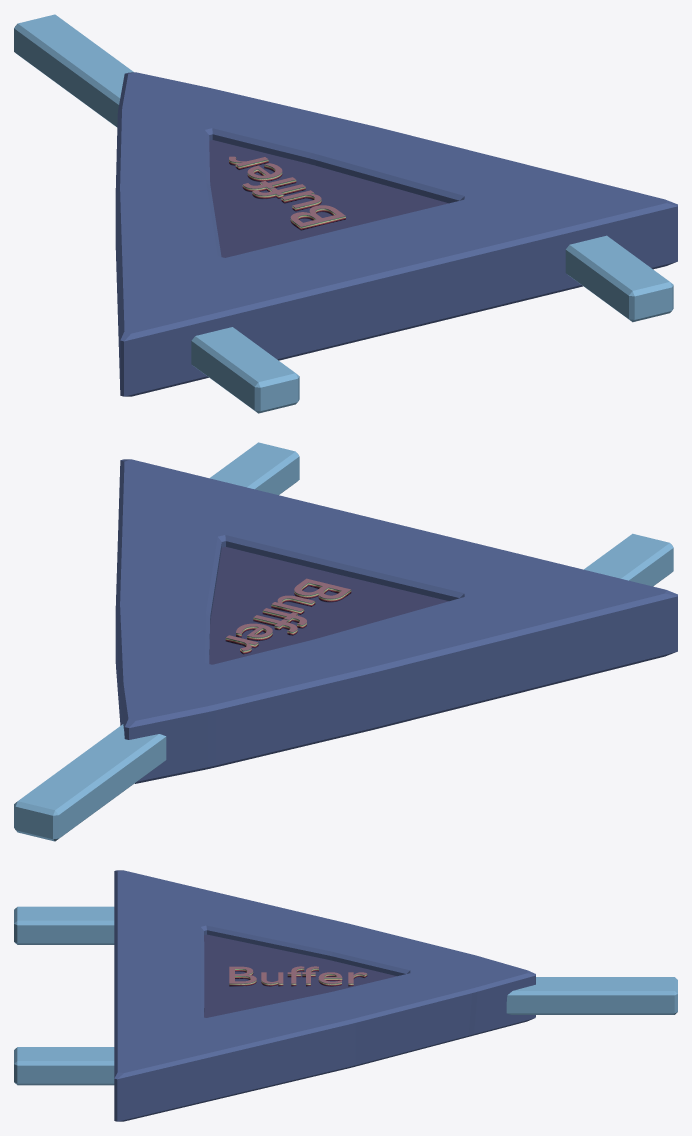
File: Assets_Gates.fbx_Buffer.fbx
3 renders of one model, top to bottom at view 1: azimuth 30°, elevation 25°; view 2: azimuth 150°, elevation 25°; view 3: azimuth 270°, elevation 25°, orthographic. The views are drawn at different scales.
Parts seen in each view (by area): view 1: Buffer.001, Text.006; view 2: Buffer.001, Text.006; view 3: Buffer.001, Text.006.
Boxes of the visible parts, box(x1,y1,x2,y2) form: Buffer.001: box(14, 14, 677, 413); Text.006: box(229, 156, 345, 230); Buffer.001: box(14, 442, 677, 841); Text.006: box(225, 578, 351, 654); Buffer.001: box(14, 870, 677, 1121); Text.006: box(229, 966, 367, 986).
Bounding box in the file's own units: 298 × 32.2 × 400.
